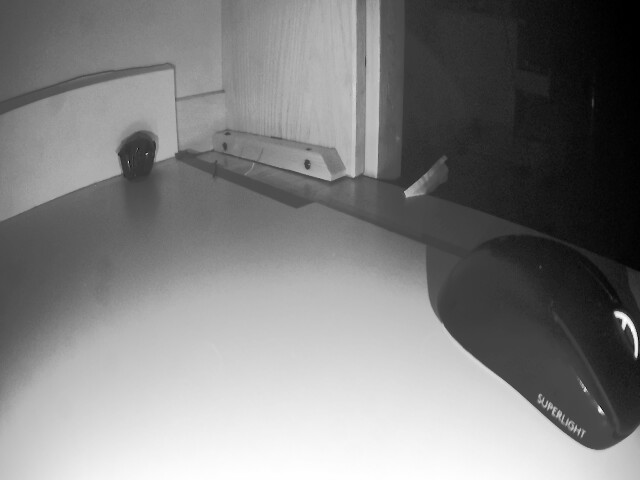black: (111, 134, 164, 191)
